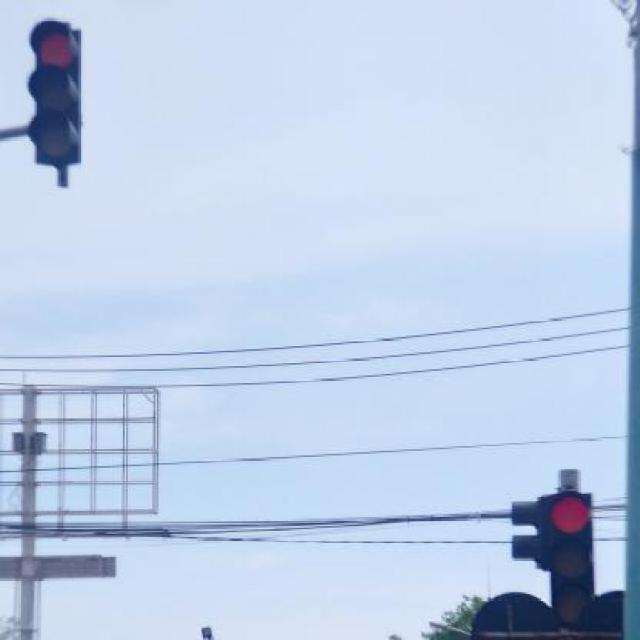traffic light: (34, 25, 79, 165), (544, 492, 591, 623)
